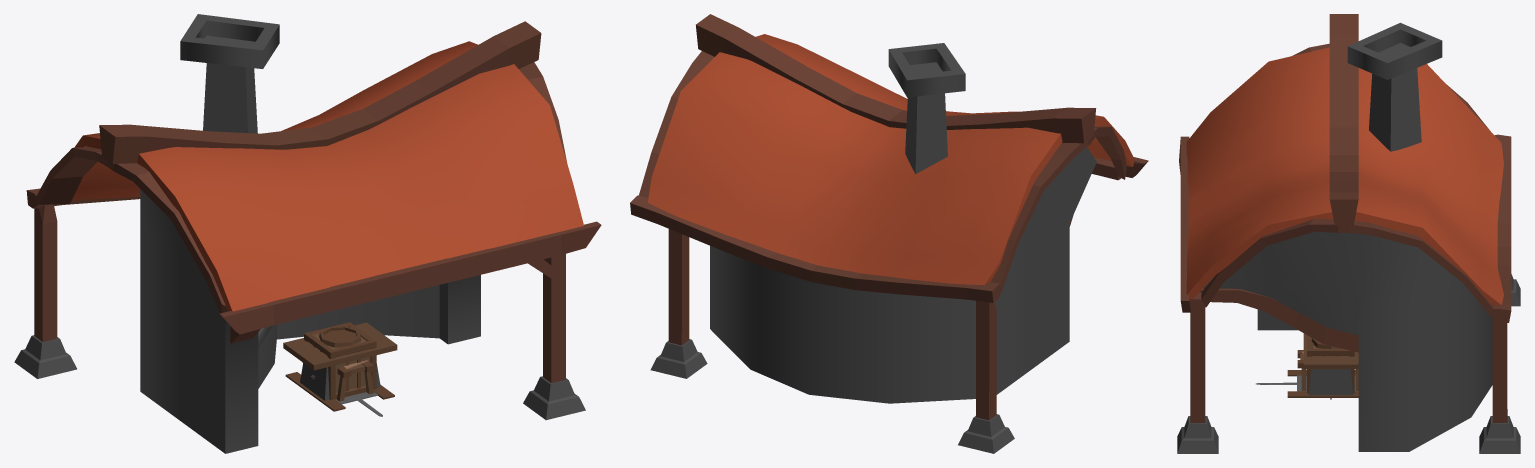
File: obj_forgeSet.fbx
3 views of the same model, side by side, from view 1: azimuth 30°, elevation 25°; view 2: azimuth 150°, elevation 25°; view 3: azimuth 270°, elevation 25° (orthographic). The views are drawn at different scales.
Visible parts, largest first — view 1: obj_forge, obj_table, obj_box, obj_tableStone, obj_drum; view 2: obj_forge; view 3: obj_forge, obj_table, obj_tableStone, obj_box.
Part boxes in pixels (bbox=[...]): obj_forge: bbox=[14, 14, 601, 453]; obj_table: bbox=[283, 322, 397, 400]; obj_box: bbox=[304, 322, 376, 400]; obj_tableStone: bbox=[285, 360, 394, 411]; obj_drum: bbox=[319, 326, 361, 347]; obj_forge: bbox=[630, 14, 1148, 453]; obj_forge: bbox=[1177, 14, 1520, 453]; obj_table: bbox=[1303, 333, 1358, 395]; obj_tableStone: bbox=[1287, 350, 1358, 397]; obj_box: bbox=[1307, 335, 1354, 393].
Bounding box in the file's own units: 10.38 × 8.46 × 8.12.
